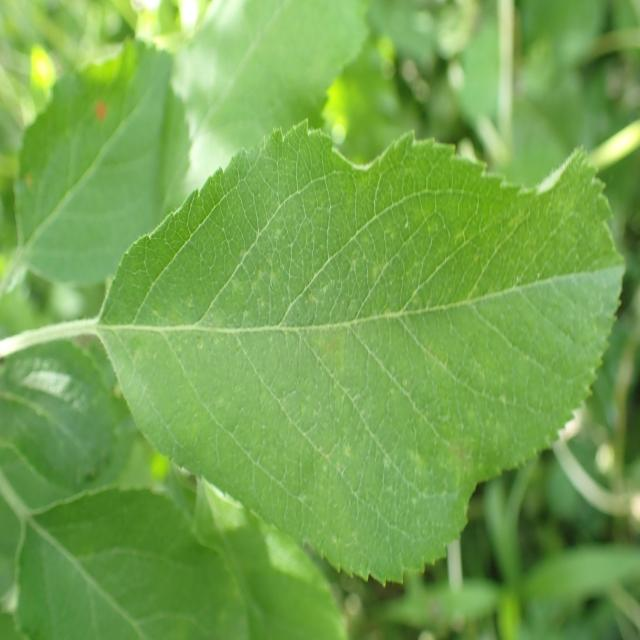scab: (134, 169, 610, 525)
